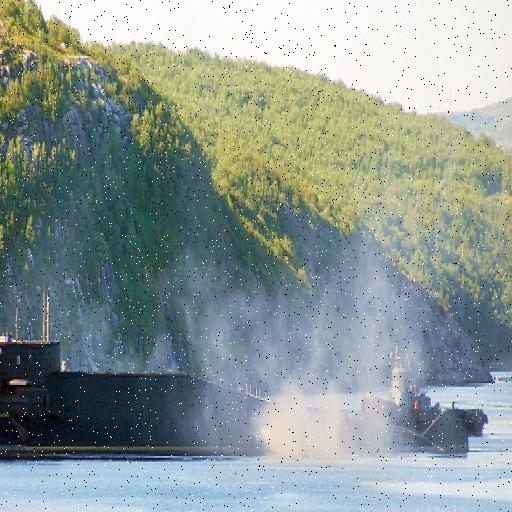submarine: (1, 281, 254, 453)
